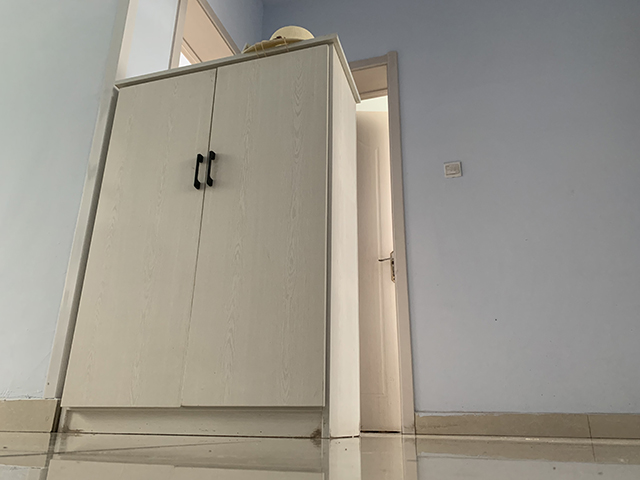cabinet: (57, 32, 363, 441)
